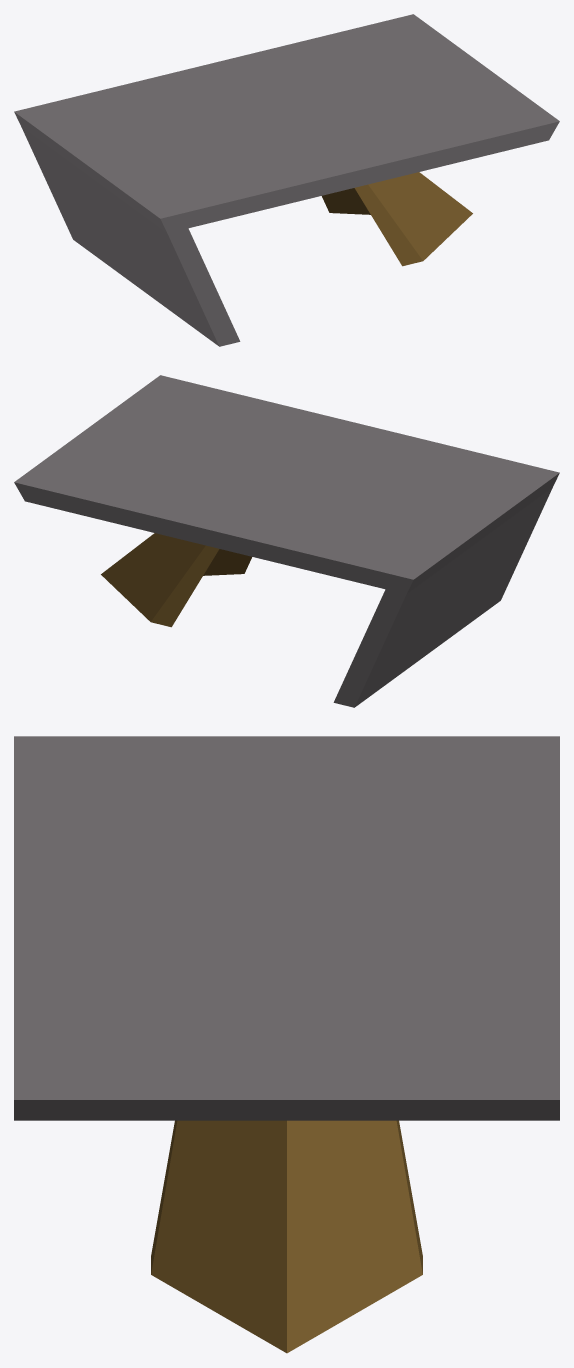
File: ModernDesk.glb
3 views of the same model, one above another, from view 1: azimuth 30°, elevation 25°; view 2: azimuth 150°, elevation 25°; view 3: azimuth 270°, elevation 25° (orthographic). The views are drawn at different scales.
Parts seen in each view (by area): view 1: Cube; view 2: Cube; view 3: Cube.
Part boxes in pixels (box(x1,y1,x2,y2)): Cube: box(14, 14, 559, 346); Cube: box(14, 375, 559, 707); Cube: box(14, 736, 559, 1353).
Bounding box in the file's own units: 3.61 × 1.23 × 2.29.
